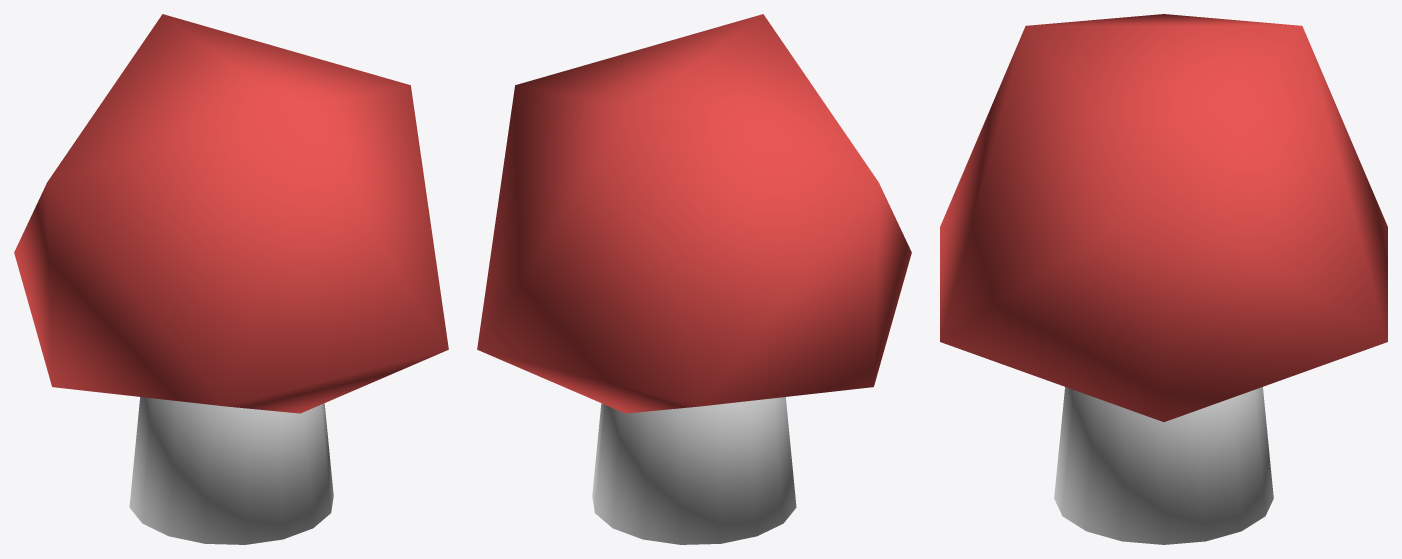
Rendered from SM_Mushroom.fbx.
3 views of the same model, side by side, from view 1: azimuth 30°, elevation 25°; view 2: azimuth 150°, elevation 25°; view 3: azimuth 270°, elevation 25° (orthographic). The views are drawn at different scales.
Visible parts, largest first — view 1: SM_Mushroom; view 2: SM_Mushroom; view 3: SM_Mushroom.
Boxes of the visible parts, x1=… form: SM_Mushroom: x1=14, y1=14, x2=448, y2=544; SM_Mushroom: x1=477, y1=14, x2=911, y2=544; SM_Mushroom: x1=940, y1=14, x2=1387, y2=544.
Size of the model in its own units: 304 by 347 by 300.
